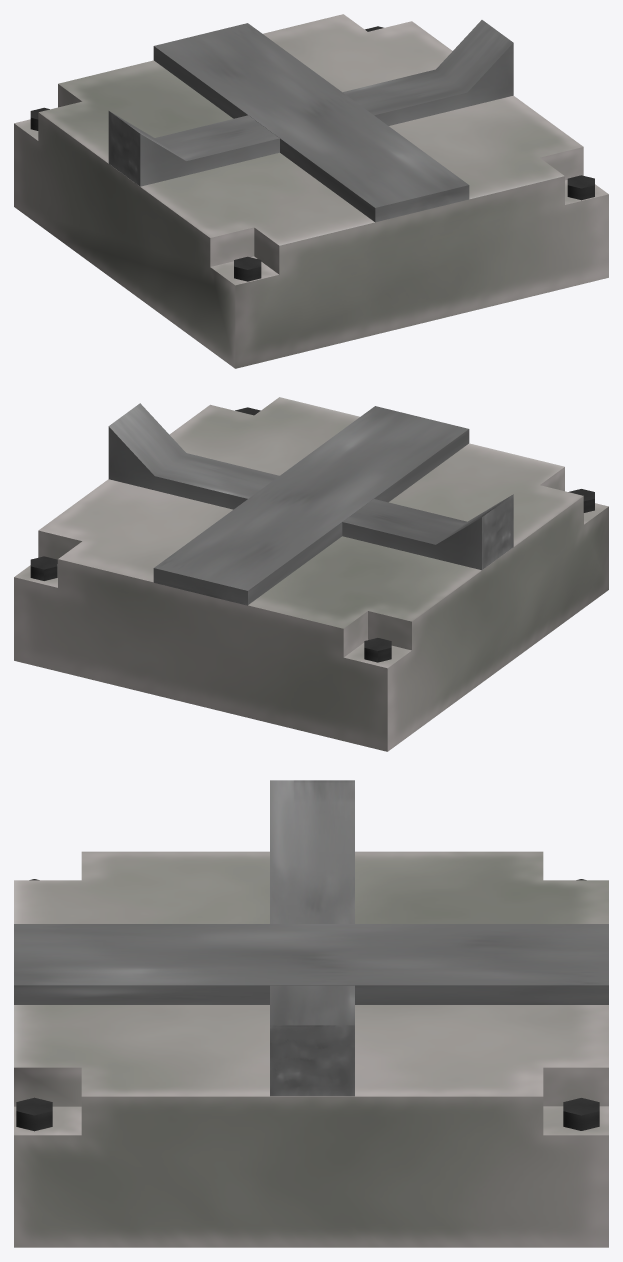
File: MiniSlab.FBX
3 views of the same model, one above another, from view 1: azimuth 30°, elevation 25°; view 2: azimuth 150°, elevation 25°; view 3: azimuth 270°, elevation 25° (orthographic). The views are drawn at different scales.
Visible parts, largest first — view 1: ConcreteBase, LongBase, Widebase, Bolt003, Bolt001; view 2: ConcreteBase, LongBase, Widebase, Bolt004, Bolt002; view 3: ConcreteBase, LongBase, Widebase, Bolt001, Bolt002.
Part boxes in pixels (x1,y1,x2,y2): ConcreteBase: (14, 14, 608, 368); LongBase: (153, 23, 469, 222); Widebase: (108, 20, 513, 186); Bolt003: (234, 256, 261, 281); Bolt001: (567, 175, 594, 200); ConcreteBase: (14, 397, 608, 751); LongBase: (153, 406, 469, 605); Widebase: (108, 403, 513, 570); Bolt004: (364, 638, 391, 662); Bolt002: (30, 556, 57, 580); ConcreteBase: (14, 851, 608, 1247); LongBase: (14, 924, 608, 1004); Widebase: (270, 780, 354, 1096); Bolt001: (16, 1097, 52, 1131); Bolt002: (563, 1098, 599, 1130).
Size of what is drawn, in the model's own units: 0.824 by 0.8458 by 0.3485.
